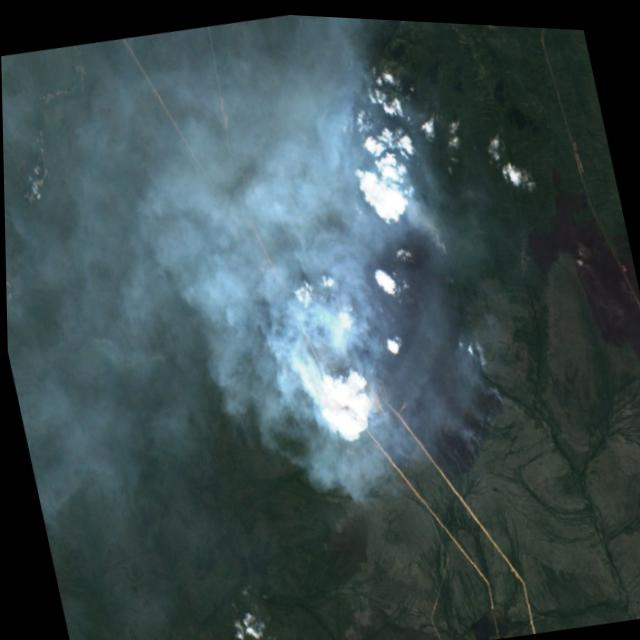fire: (294, 151, 510, 498)
